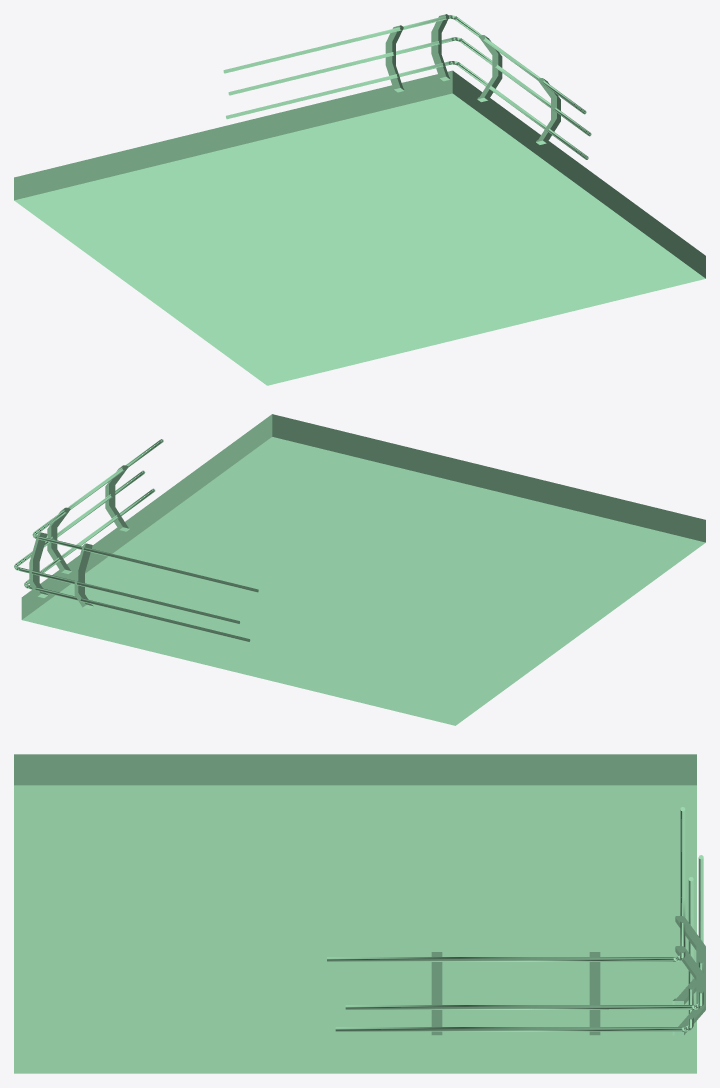
Rendered from uee_asteroid_hangar_t2_catwalk_tile_end_a.glb.
3 views of the same model, one above another, from view 1: azimuth 30°, elevation 25°; view 2: azimuth 150°, elevation 25°; view 3: azimuth 270°, elevation 25° (orthographic). The views are drawn at different scales.
Bounding box in the file's own units: 8.18 × 1.5 × 8.11.
